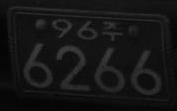2: (56, 44, 88, 91)
6: (94, 46, 126, 93), (131, 50, 162, 95), (23, 42, 53, 88), (77, 20, 97, 40)
9: (52, 17, 72, 38)
주: (102, 20, 124, 41)
